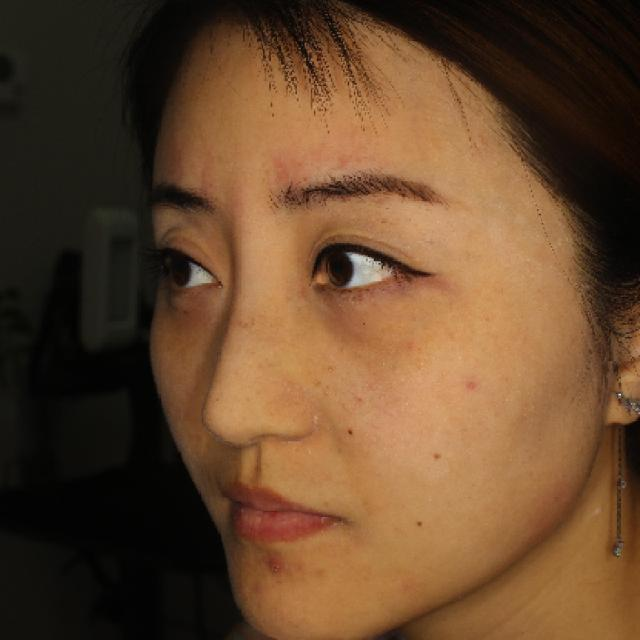Acne: (261, 547, 300, 579), (458, 374, 489, 400)
Dark-Spots: (337, 420, 368, 442), (417, 441, 442, 464), (408, 514, 430, 534)
